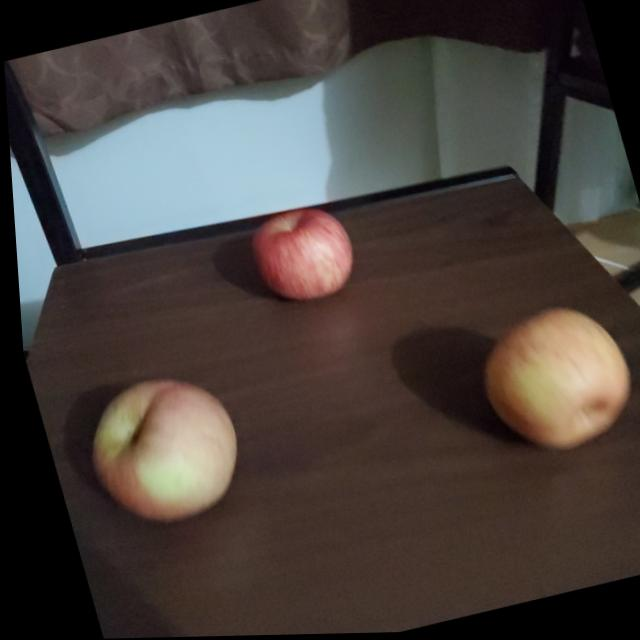apple: (68, 366, 254, 541), (457, 300, 639, 471), (241, 201, 358, 308)
